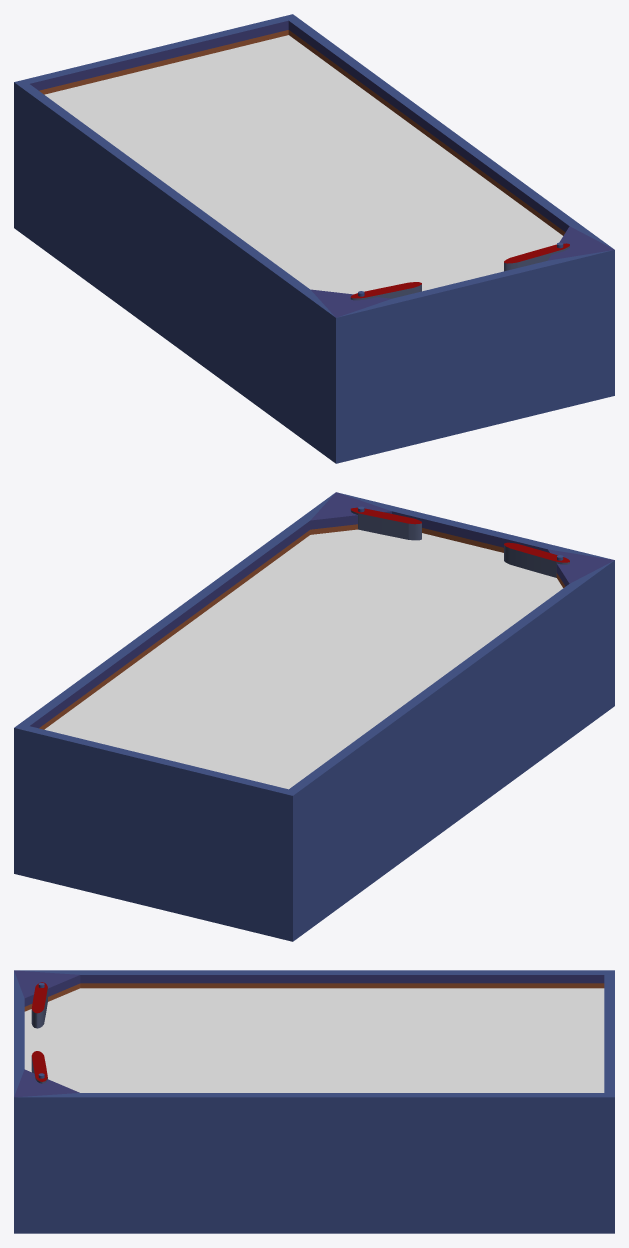
Rendered from pnball (1).fbx.
The picture shows the model from 3 angles, top to bottom: view 1: azimuth 30°, elevation 25°; view 2: azimuth 150°, elevation 25°; view 3: azimuth 270°, elevation 25°; orthographic projection. The views are drawn at different scales.
Parts seen in each view (by area): view 1: Cube, Cube.004, Cube.001; view 2: Cube, Cube.004, Cube.001; view 3: Cube, Cube.001, Cube.004.
Part boxes in pixels (box(x1,y1,x2,y2)): Cube: box(14, 14, 614, 463); Cube.004: box(504, 243, 569, 271); Cube.001: box(350, 282, 421, 300); Cube: box(14, 492, 614, 941); Cube.004: box(350, 507, 421, 540); Cube.001: box(504, 542, 569, 577); Cube: box(14, 970, 614, 1233); Cube.001: box(31, 982, 47, 1028); Cube.004: box(31, 1051, 47, 1083).
Bounding box in the file's own units: 200 × 103 × 400.
